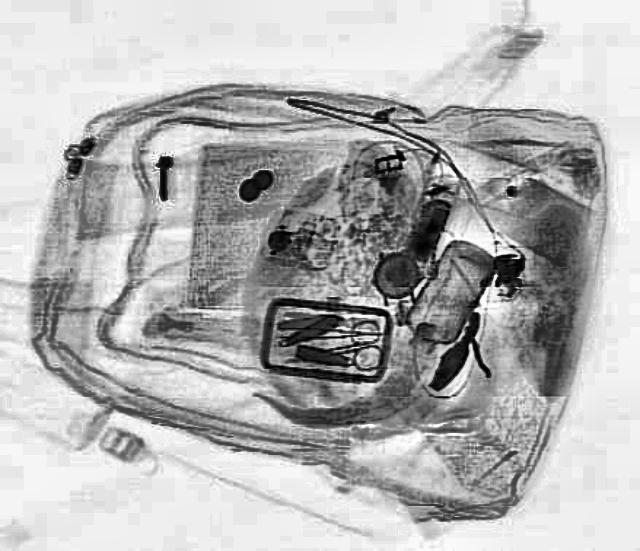Scissors: (298, 315, 388, 378)
